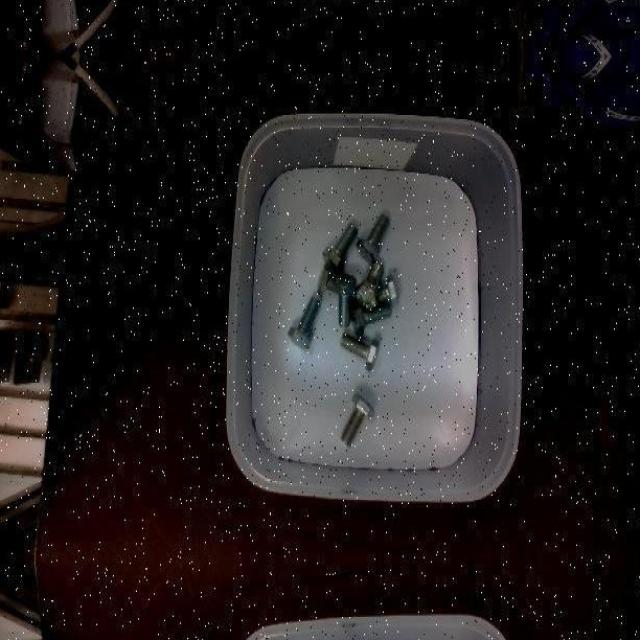screw: (287, 295, 320, 349), (322, 223, 357, 273), (341, 392, 374, 445), (357, 212, 391, 261), (338, 332, 379, 372), (356, 261, 382, 309), (334, 274, 356, 328)
